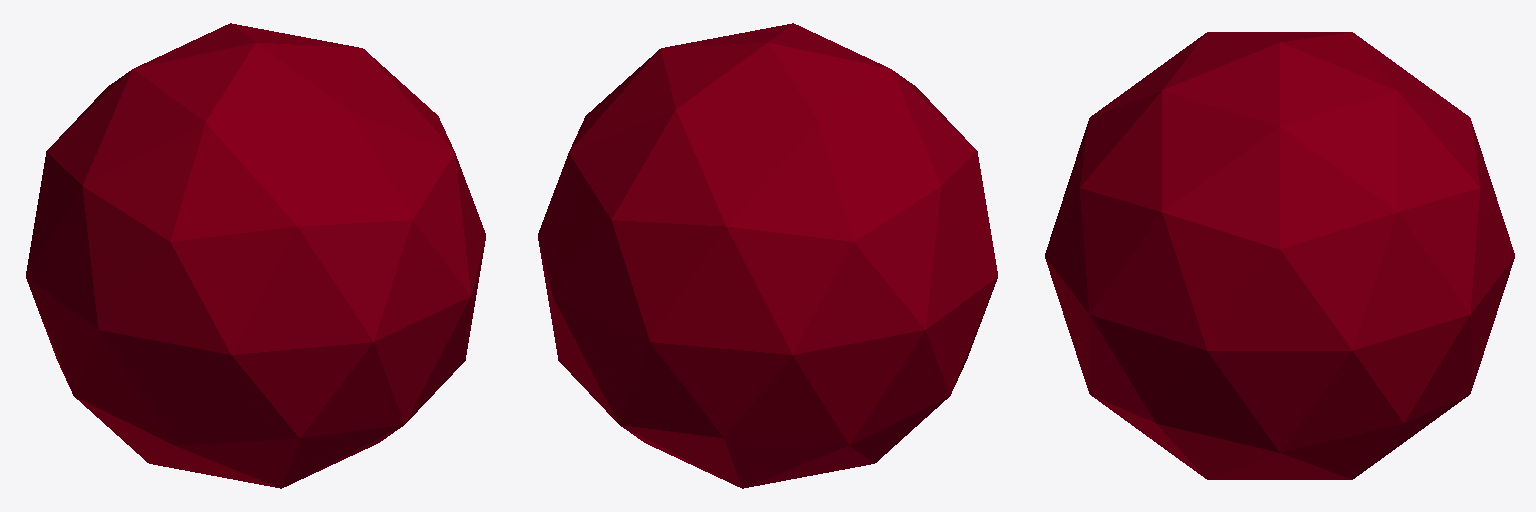
Rendered from izstrelek.obj.
3 renders of one model, left to right at view 1: azimuth 30°, elevation 25°; view 2: azimuth 150°, elevation 25°; view 3: azimuth 270°, elevation 25°, orthographic.
Parts seen in each view (by area): view 1: Icosphere; view 2: Icosphere; view 3: Icosphere.
Boxes of the visible parts, x1=… form: Icosphere: x1=26, y1=23, x2=485, y2=488; Icosphere: x1=538, y1=23, x2=997, y2=488; Icosphere: x1=1045, y1=32, x2=1514, y2=479.
Size of the model in its own units: 1.9 by 2 by 2.